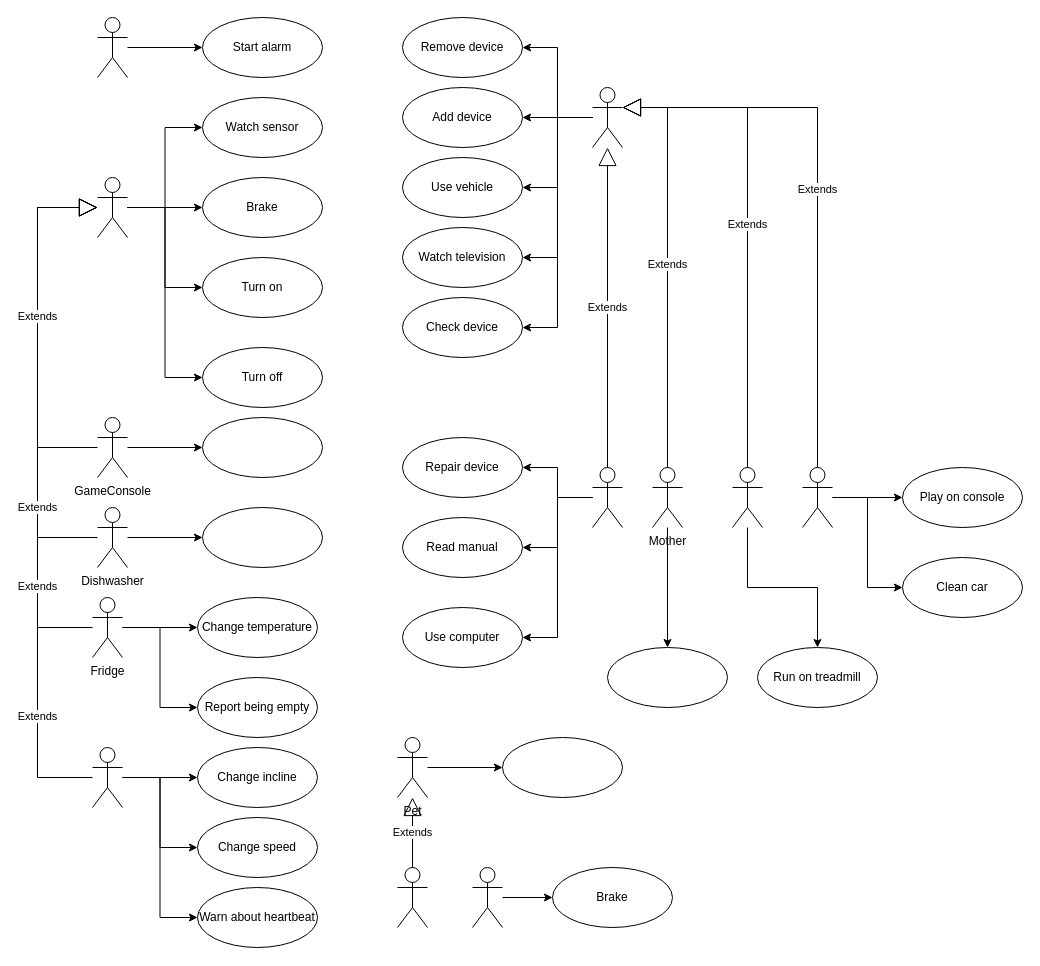
Image size: 1040x966. Some labels were removed from this diagram. The shapes that lost their labels are listed below. From the top down, each one's centre as x and y in pixels, then its label:
At pixel 112 47: "Sensor".
At pixel 607 117: "Person".
At pixel 112 207: "Device".
At pixel 262 447: "Launch game".
At pixel 607 497: "Father".
At pixel 747 497: "Daughter".
At pixel 817 497: "Son".
At pixel 262 537: "Wash the dishes".
At pixel 667 677: "Put washed dishes away".
At pixel 107 777: "Treadmill".
At pixel 562 767: "Start eating".
At pixel 412 897: "Dog".
At pixel 487 897: "Vehicle".
